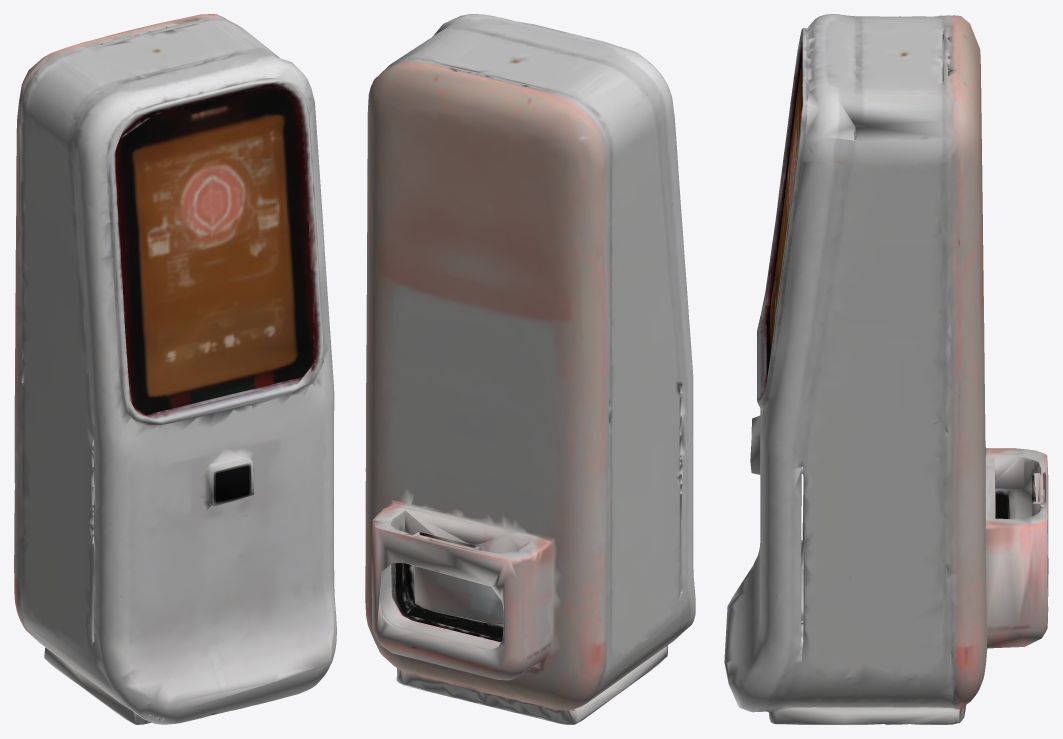
Rendered from room-01-kiosk.glb.
The picture shows the model from 3 angles, left to right: view 1: azimuth 30°, elevation 25°; view 2: azimuth 150°, elevation 25°; view 3: azimuth 270°, elevation 25°; orthographic projection. The views are drawn at different scales.
Parts seen in each view (by area): view 1: geometry_0; view 2: geometry_0; view 3: geometry_0.
Boxes of the visible parts, box(x1,y1,x2,y2) form: geometry_0: box(14, 14, 336, 724); geometry_0: box(365, 14, 695, 724); geometry_0: box(724, 14, 1048, 724).
Bounding box in the file's own units: 0.4019 × 1 × 0.4697.
Materials: 1 (1 with a texture image).
